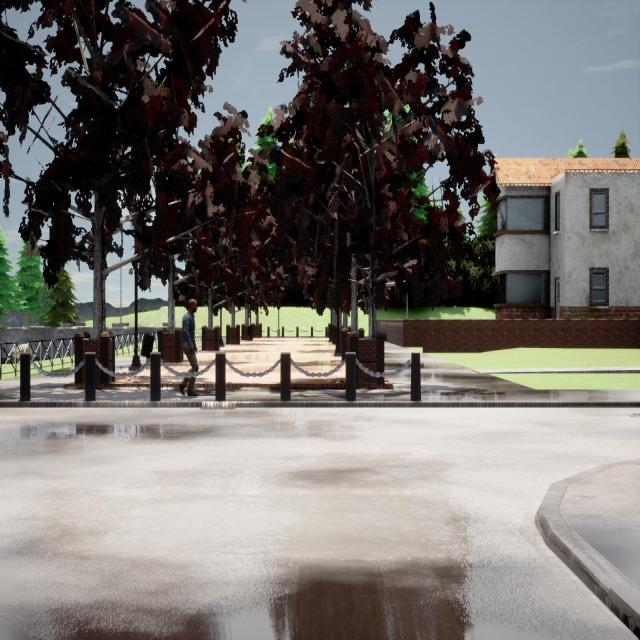Pedestrian: (176, 296, 200, 396)
